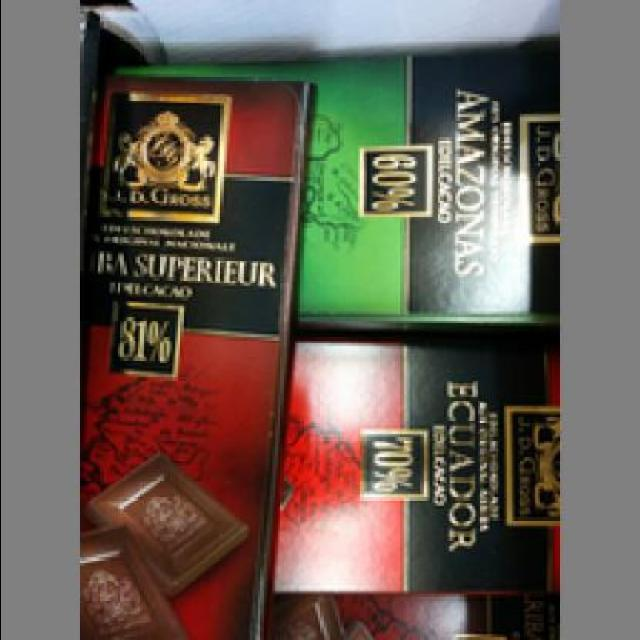Chocolate bar: (83, 60, 320, 637), (306, 40, 563, 326), (283, 350, 566, 594)
